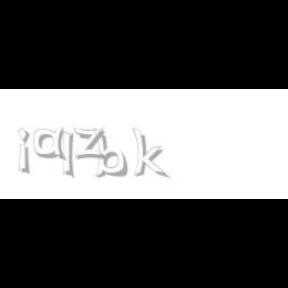I: (62, 128, 76, 180)
a: (34, 128, 70, 160)
b: (93, 128, 131, 178)
i: (17, 128, 33, 176)
k: (132, 128, 170, 180)
z: (73, 128, 109, 160)
